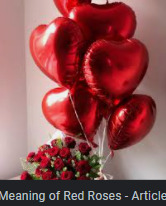RedRose: (76, 159, 91, 175), (79, 141, 93, 156), (59, 146, 72, 159), (64, 136, 77, 149), (55, 158, 65, 171), (60, 170, 74, 179), (40, 157, 52, 167)
